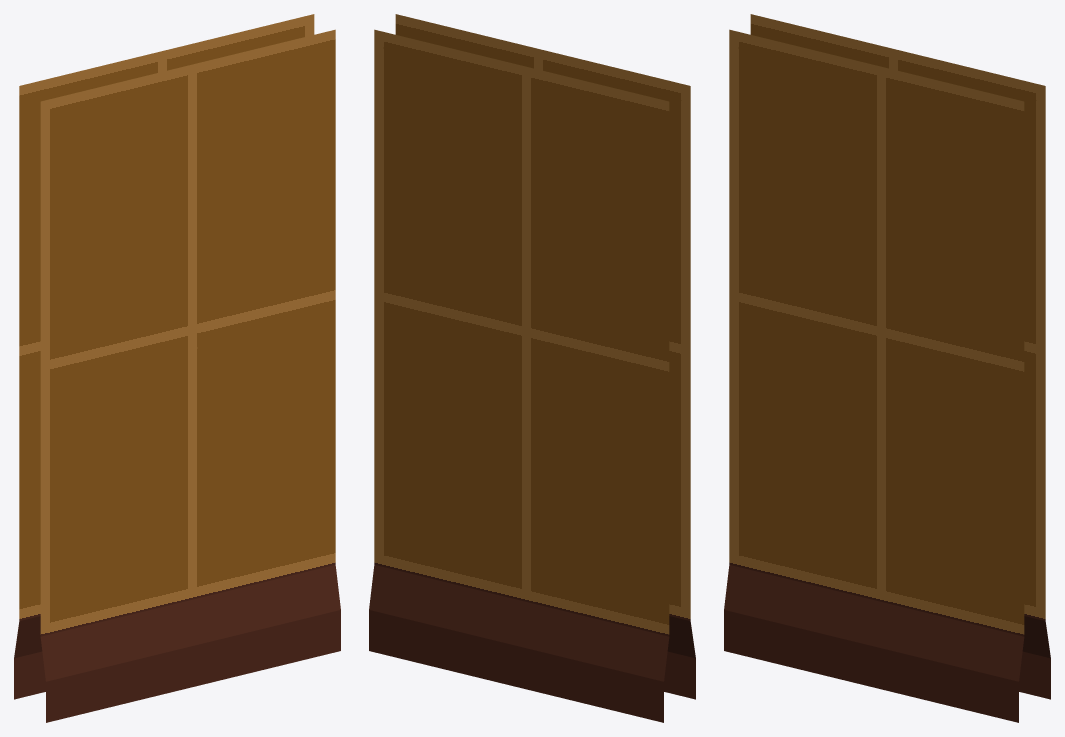
The model's file is BuildWall1.gltf.
3 views of the same model, side by side, from view 1: azimuth 30°, elevation 25°; view 2: azimuth 150°, elevation 25°; view 3: azimuth 330°, elevation 25° (orthographic).
Parts seen in each view (by area): view 1: cuboid; view 2: cuboid; view 3: cuboid.
Part boxes in pixels (box(x1,y1,x2,y2)): cuboid: box(14, 14, 340, 722); cuboid: box(369, 14, 695, 722); cuboid: box(724, 14, 1050, 722).
Bounding box in the file's own units: 2 × 4 × 0.375.
Materials: 1 (1 with a texture image).
